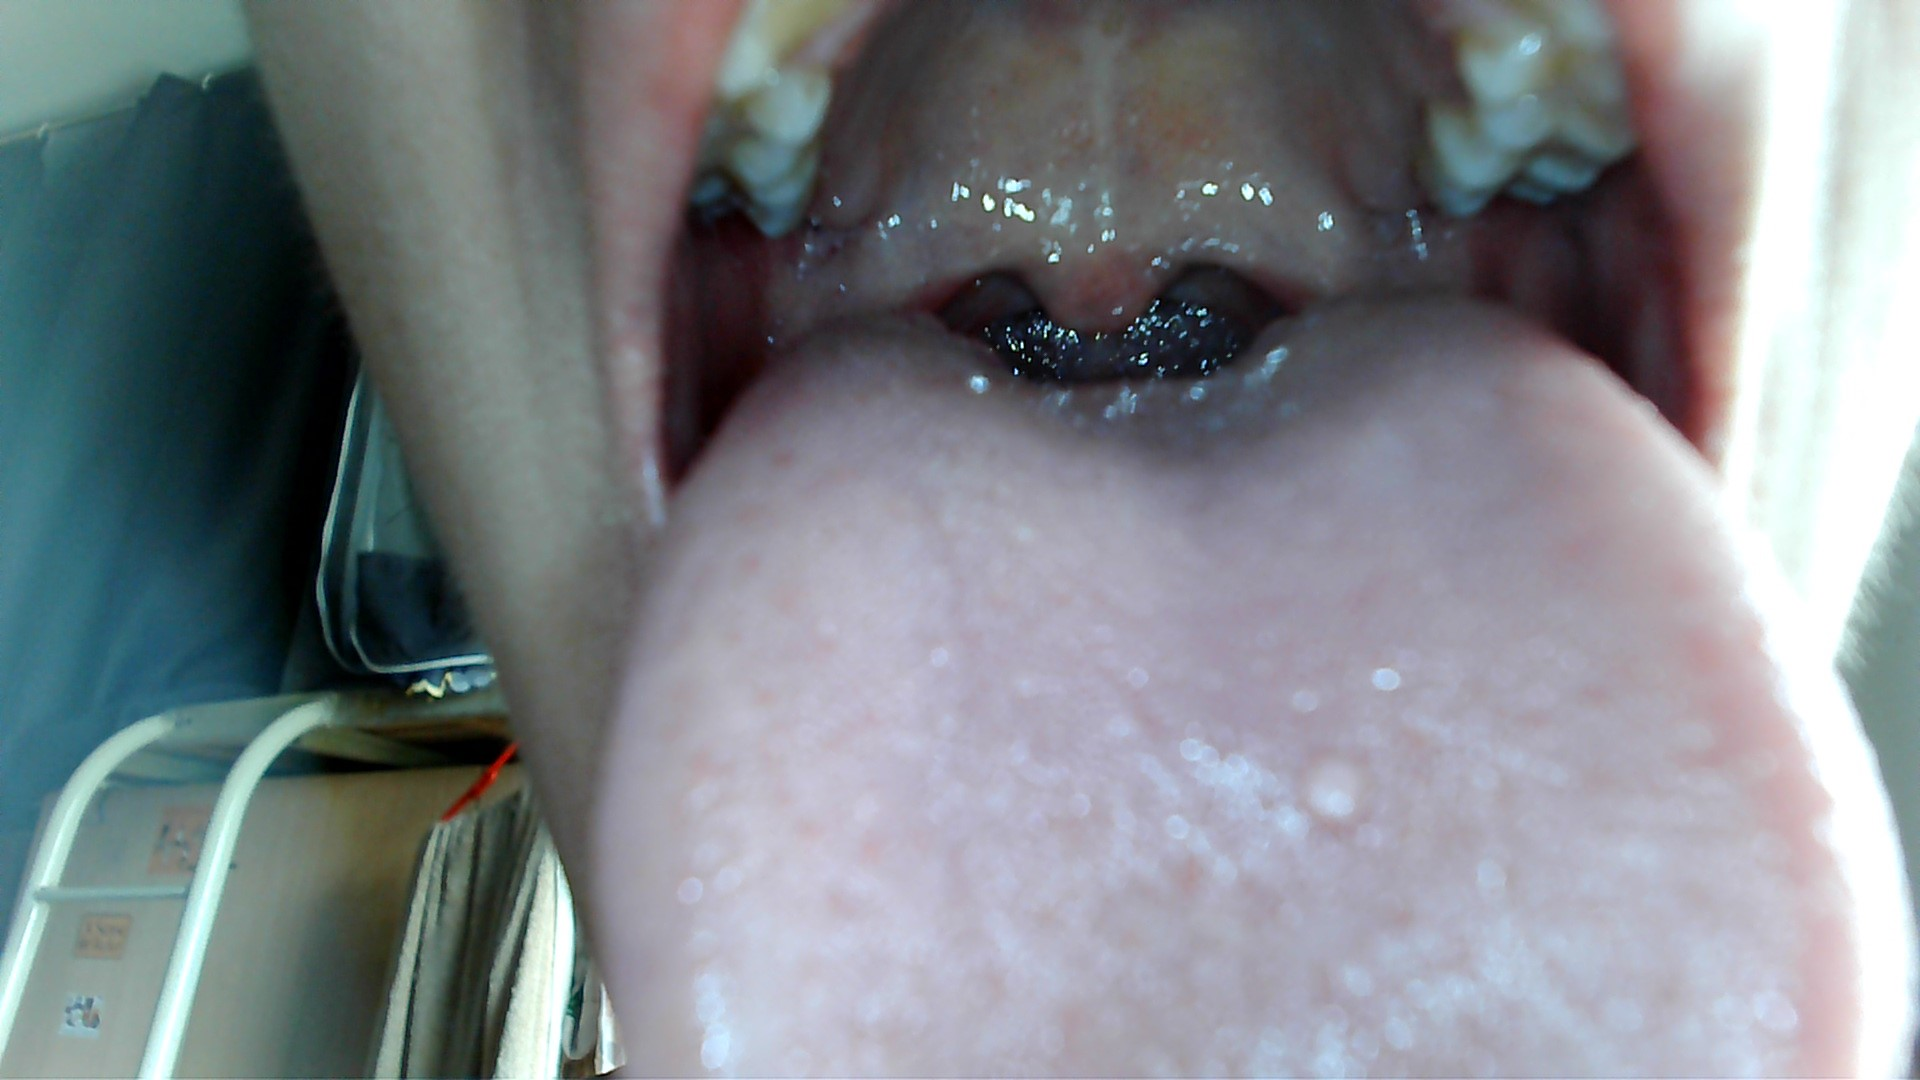throat: (1234, 175, 1366, 316), (851, 216, 971, 324)
